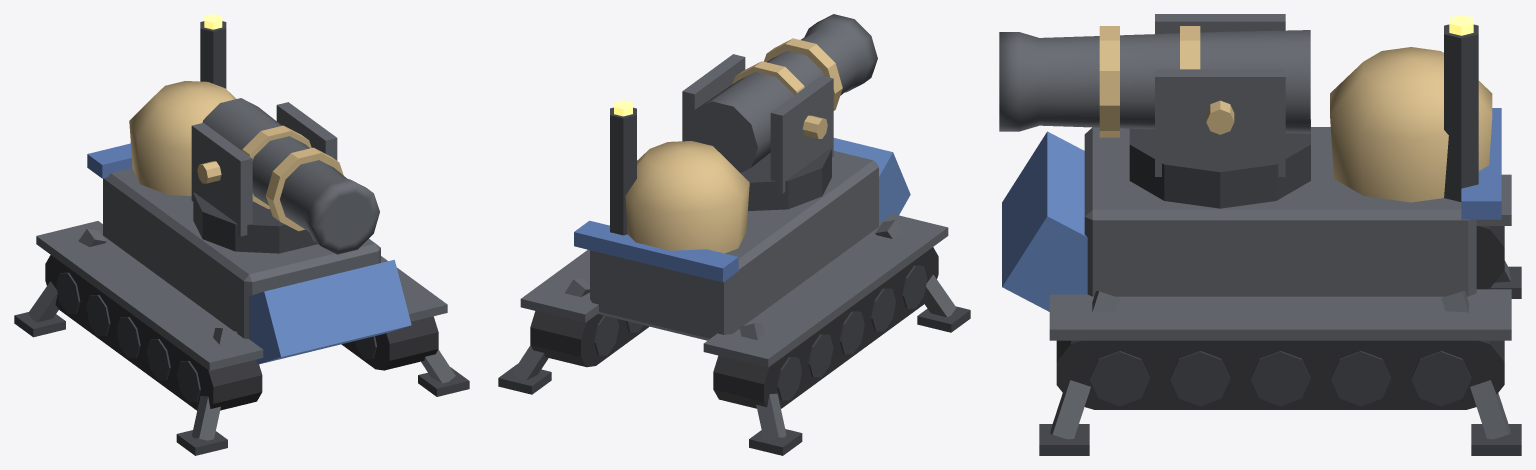
Rendered from mortar.glb.
The picture shows the model from 3 angles, left to right: view 1: azimuth 30°, elevation 25°; view 2: azimuth 150°, elevation 25°; view 3: azimuth 270°, elevation 25°; orthographic projection. The views are drawn at different scales.
Parts seen in each view (by area): view 1: chassis, barrel, turret, leg_fl, leg_bl, leg_fr; view 2: chassis, barrel, turret, leg_bl, leg_fl, leg_br; view 3: chassis, barrel, turret, leg_fr, leg_br, leg_bl.
Boxes of the visible parts, x1,y1,x2,y2 form: chassis: (36,14,447,410); barrel: (197,98,379,254); turret: (191,102,337,253); leg_fl: (176,327,236,455); leg_bl: (14,228,106,337); leg_fr: (404,298,469,396); chassis: (520,100,948,408); barrel: (687,14,877,172); turret: (682,54,833,210); leg_bl: (739,323,802,455); leg_fl: (875,220,970,332); leg_br: (498,278,589,394); chassis: (1002,15,1511,409); barrel: (999,26,1310,137); turret: (1129,14,1310,208); leg_fr: (1039,291,1119,455); leg_br: (1441,291,1521,455); leg_bl: (1488,260,1521,298).
Size of the model in its own units: 4.2 by 4.08 by 5.2.
